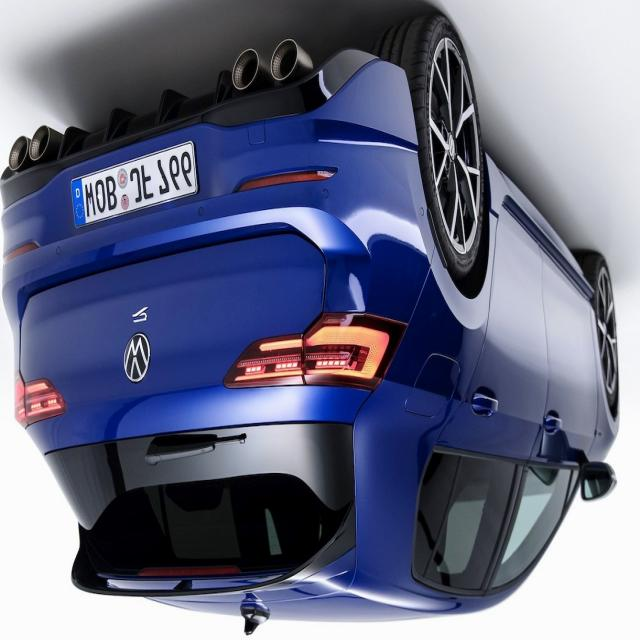blue: (0, 5, 619, 640)
